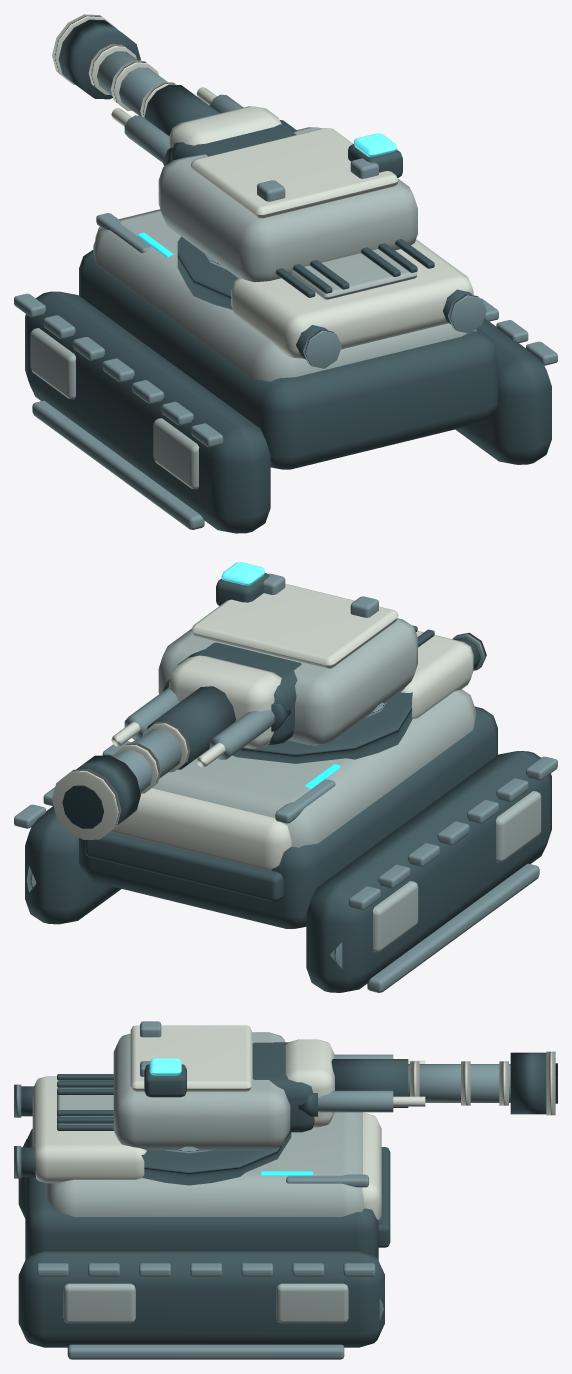
Rendered from siege-crawler.glb.
3 renders of one model, top to bottom at view 1: azimuth 30°, elevation 25°; view 2: azimuth 150°, elevation 25°; view 3: azimuth 270°, elevation 25°, orthographic. The views are drawn at different scales.
Visible parts, largest first — view 1: Armored track pod, Track guard panel, Wheel hub, Road wheel, Artillery cannon assembly, Rangefinder glass; view 2: Armored track pod, Track guard panel, Wheel hub, Road wheel, Artillery cannon assembly, Rangefinder glass; view 3: Armored track pod, Track guard panel, Wheel hub, Road wheel, Artillery cannon assembly, Rangefinder glass.
Boxes of the visible parts, bbox=[...] form: Armored track pod: bbox=[25, 120, 551, 533]; Track guard panel: bbox=[30, 127, 476, 489]; Wheel hub: bbox=[95, 106, 473, 358]; Road wheel: bbox=[14, 94, 557, 529]; Artillery cannon assembly: bbox=[52, 14, 219, 135]; Rangefinder glass: bbox=[353, 133, 397, 157]; Armored track pod: bbox=[25, 573, 551, 992]; Track guard panel: bbox=[130, 618, 541, 952]; Wheel hub: bbox=[110, 583, 473, 870]; Road wheel: bbox=[14, 573, 557, 992]; Artillery cannon assembly: bbox=[52, 686, 235, 840]; Rangefinder glass: bbox=[221, 562, 264, 585]; Armored track pod: bbox=[18, 1042, 390, 1347]; Track guard panel: bbox=[46, 1032, 364, 1323]; Wheel hub: bbox=[32, 1025, 381, 1220]; Road wheel: bbox=[14, 1021, 393, 1359]; Artillery cannon assembly: bbox=[331, 1051, 557, 1115]; Rangefinder glass: bbox=[149, 1058, 181, 1075].
Bounding box in the file's own units: 1.65 × 1.31 × 2.56.
